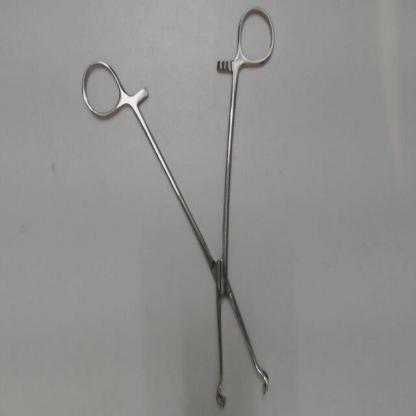8 Babcock Tissue Forceps: (76, 1, 281, 411)
